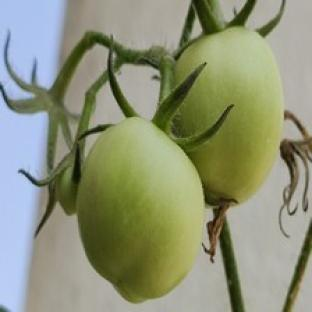Tomato: (77, 117, 204, 302), (176, 27, 282, 204), (56, 166, 77, 215)
